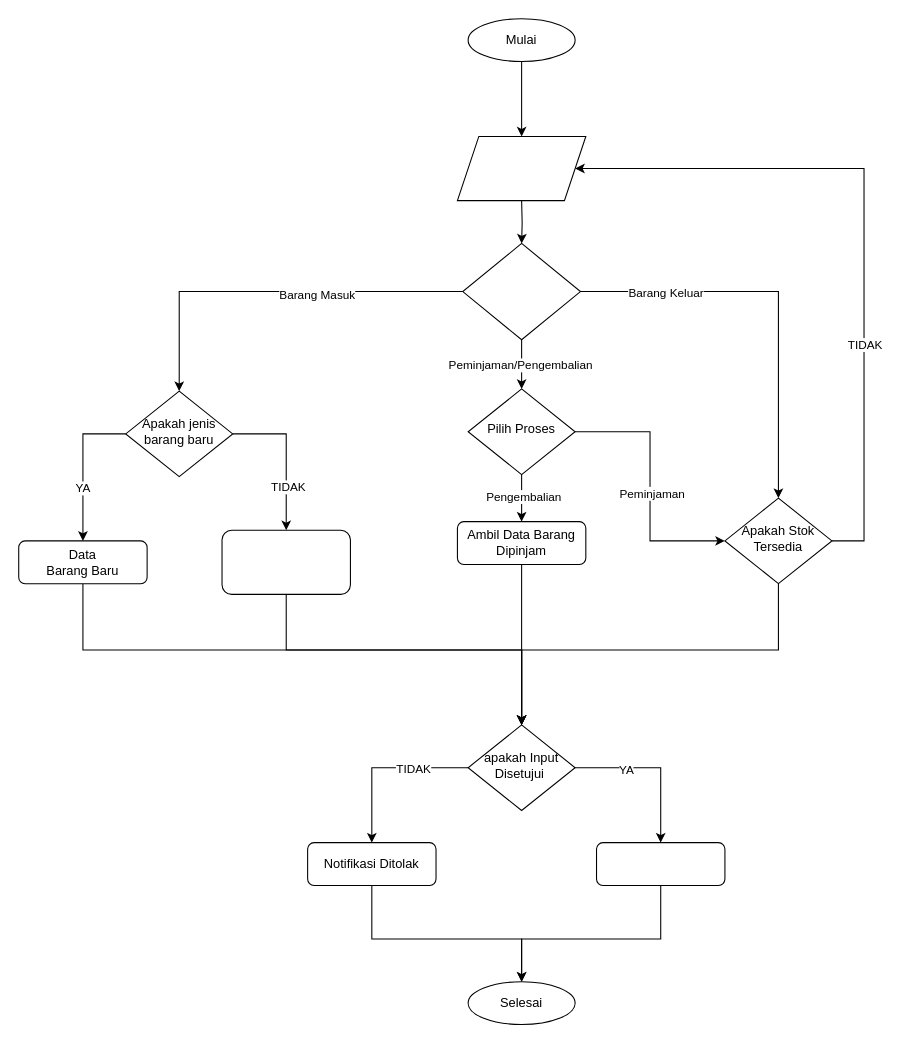
The diagram is 900 pixels wide and 1043 high, and some of its shapes have lost their labels. The shapes that lost their labels are listed below. From the top down, each one's centre as x and y in pixels, then its label:
At point (521, 168): "Input Barang".
At point (521, 291): "Jenis Transaksi".
At point (285, 561): "Validasi Transaksi Barang yang sudah ada".
At point (660, 863): "Stok Barang Terupdate".
